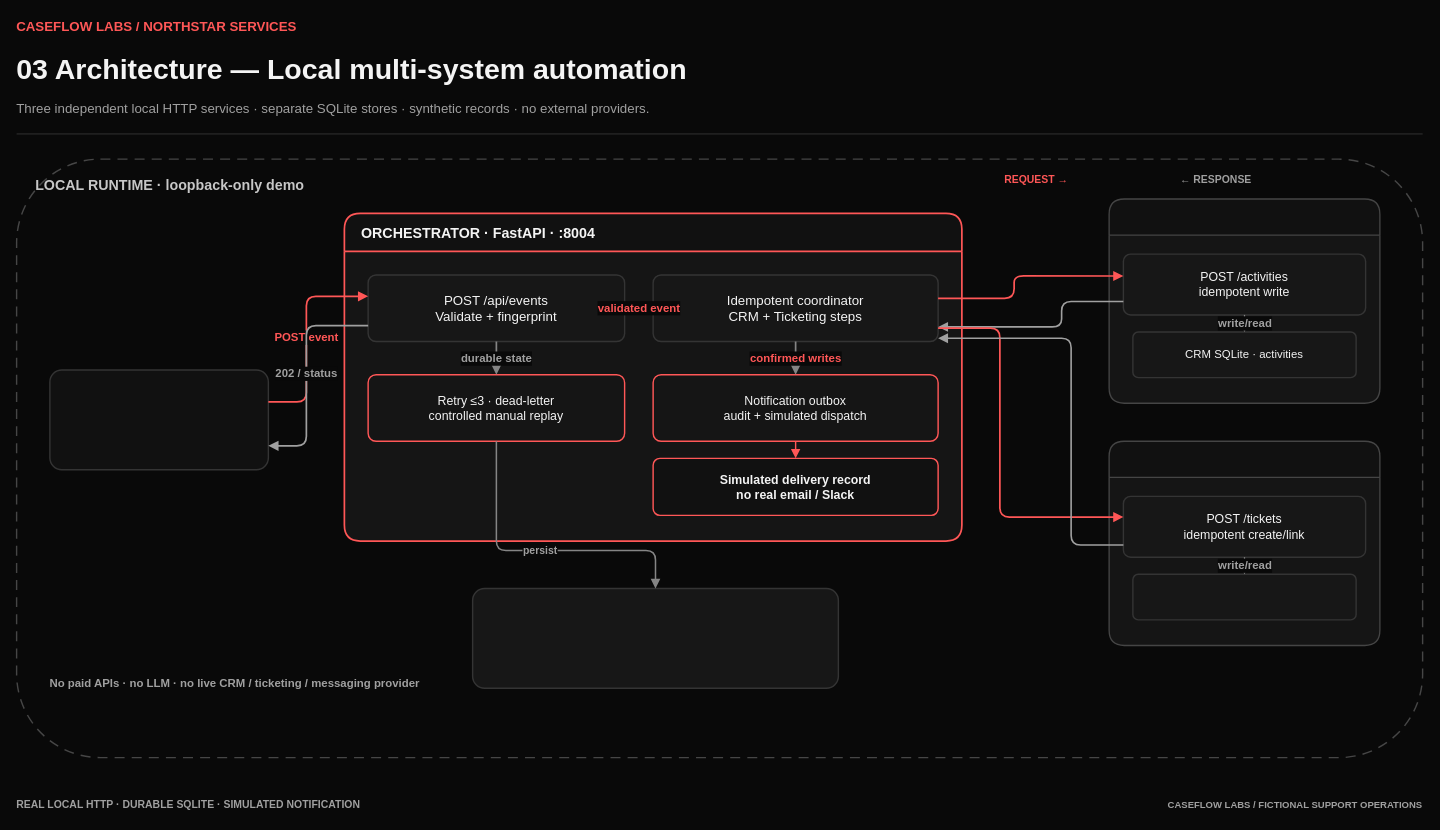
Some shapes in this 1440 by 830 pixel diagram are drawn without their labels. The shapes that lost their labels are listed below. From the top down, each one's box as (x1, y1, x2, y2) in pixels, then its label:
(1108, 198, 1380, 403): MOCK CRM · HTTP/JSON · :8005
(49, 369, 269, 470): Operator dashboard 127.0.0.1:8004
(1108, 440, 1380, 646): MOCK TICKETING · HTTP/JSON · :8006
(1132, 573, 1356, 620): Ticketing SQLite · tickets
(471, 587, 839, 689): Orchestrator SQLite event ledger · idempotency audit · notification outbox
